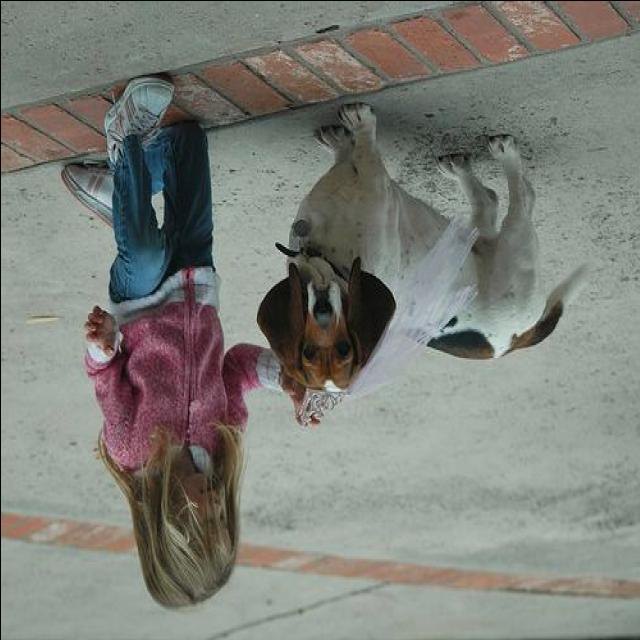basset: (254, 96, 596, 402)
